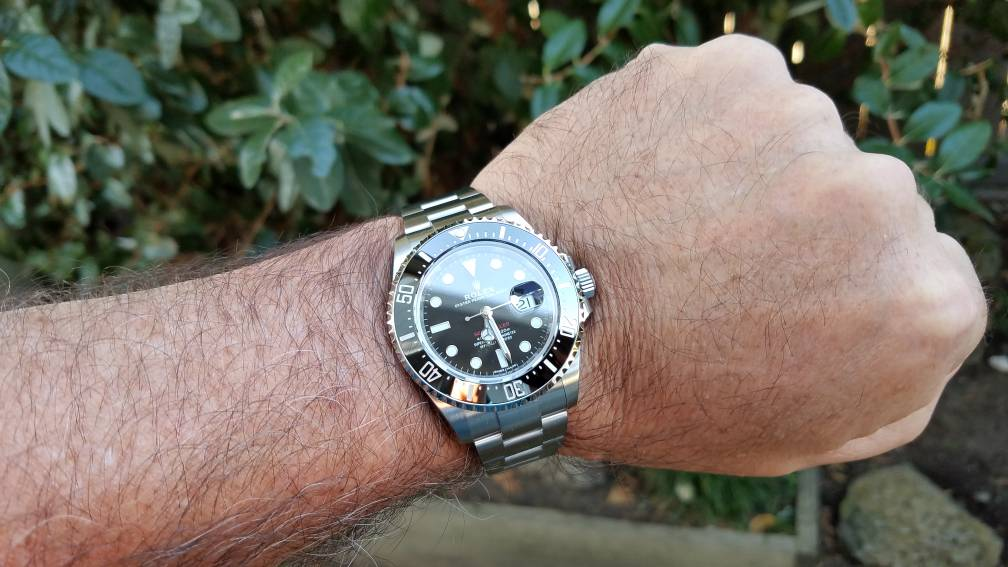clock: (417, 241, 563, 384)
